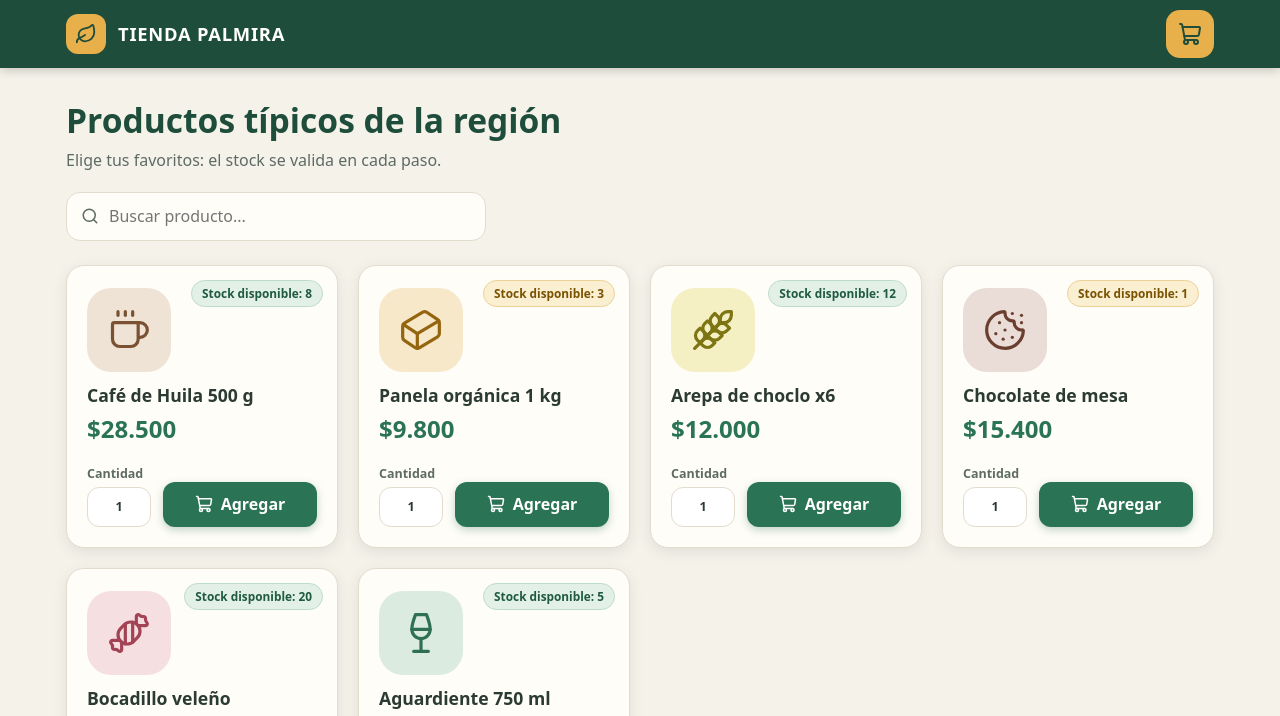
it: Reto carrito de compras - casos de prueba del instructor › 3. escribir 0 en el catálogo: conserva el valor y muestra toast de mínimo
Replace the text in the field labelled "Cantidad" below "$28.500" with "0" at x=119, y=507, box [87,487,151,527]
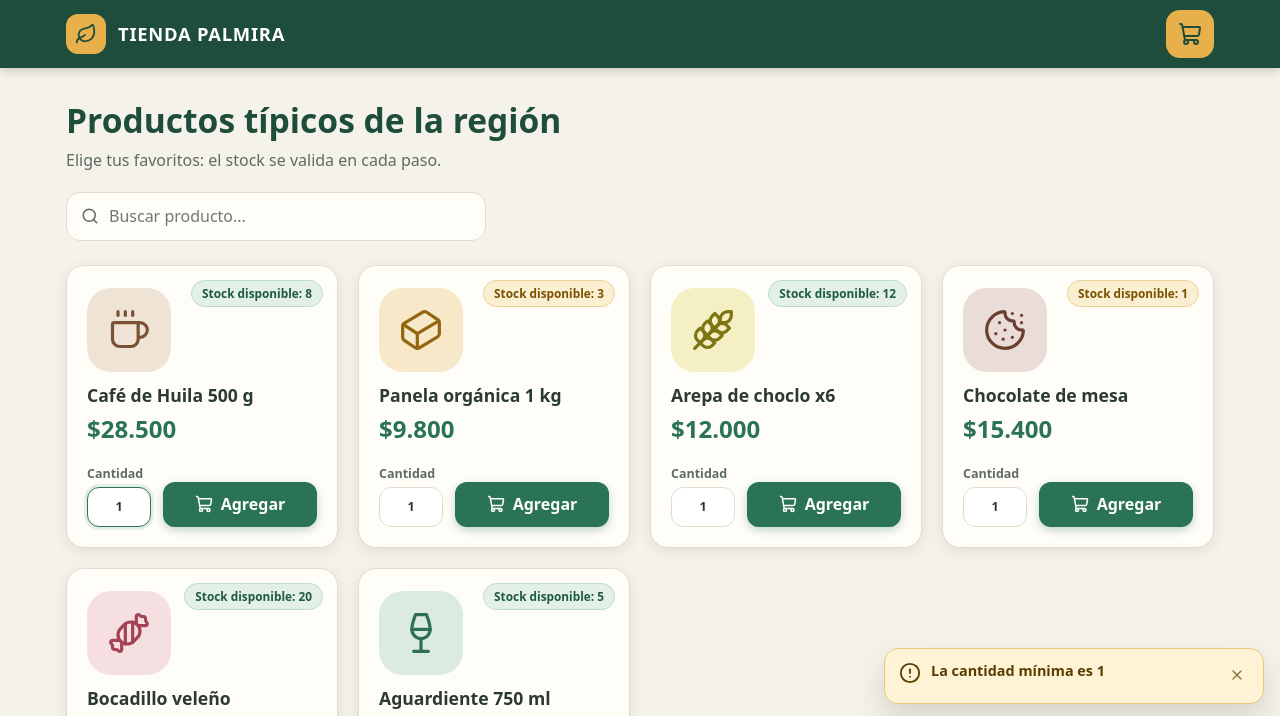
Result: the field labelled "Cantidad" below "$28.500" holds "1" at [87,487,151,527]
Result: the text "La cantidad mínima es 1" is shown at [931,661,1105,680]
